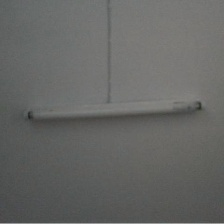light_bulb: (20, 97, 207, 124)
